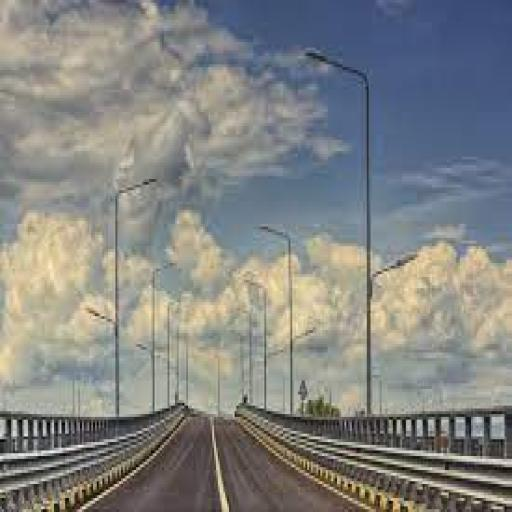Light-pole: (303, 37, 412, 436), (73, 163, 152, 454), (260, 210, 311, 404), (144, 252, 174, 431)
